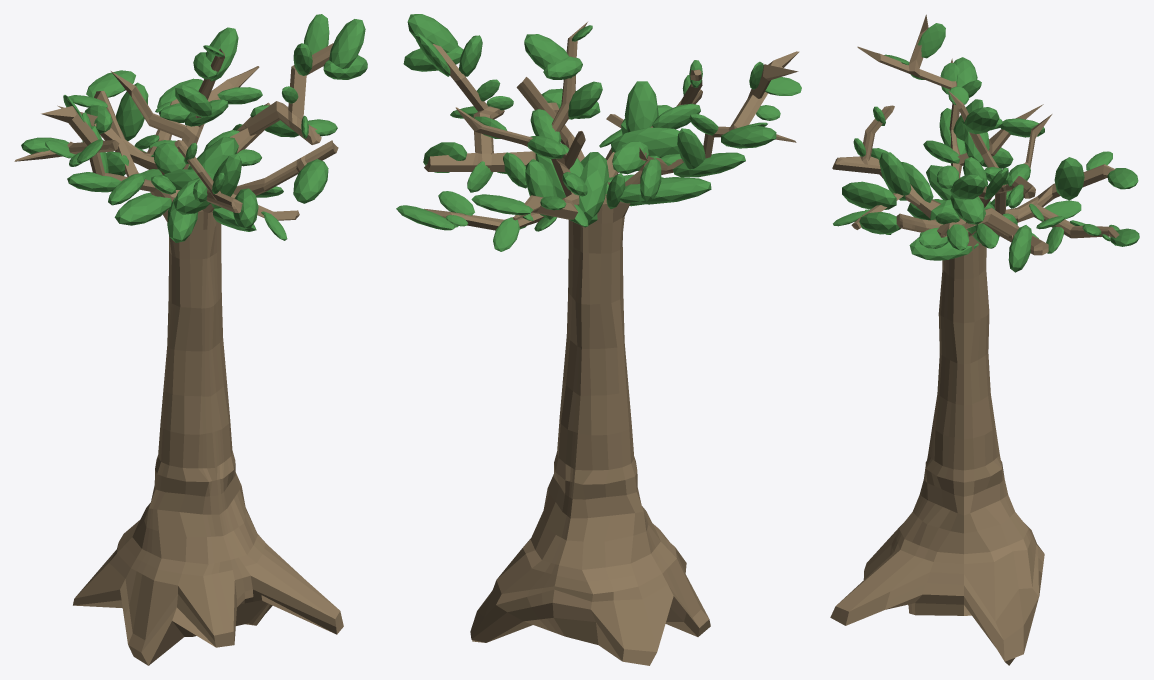
Rendered from tree3.fbx.
3 views of the same model, side by side, from view 1: azimuth 30°, elevation 25°; view 2: azimuth 150°, elevation 25°; view 3: azimuth 270°, elevation 25° (orthographic). The views are drawn at different scales.
Parts seen in each view (by area): view 1: tree; view 2: tree; view 3: tree.
Boxes of the visible parts, x1,y1,x2,y2 form: tree: (14,14,367,665); tree: (396,14,801,665); tree: (830,14,1139,665).
Bounding box in the file's own units: 536 × 829 × 430.
